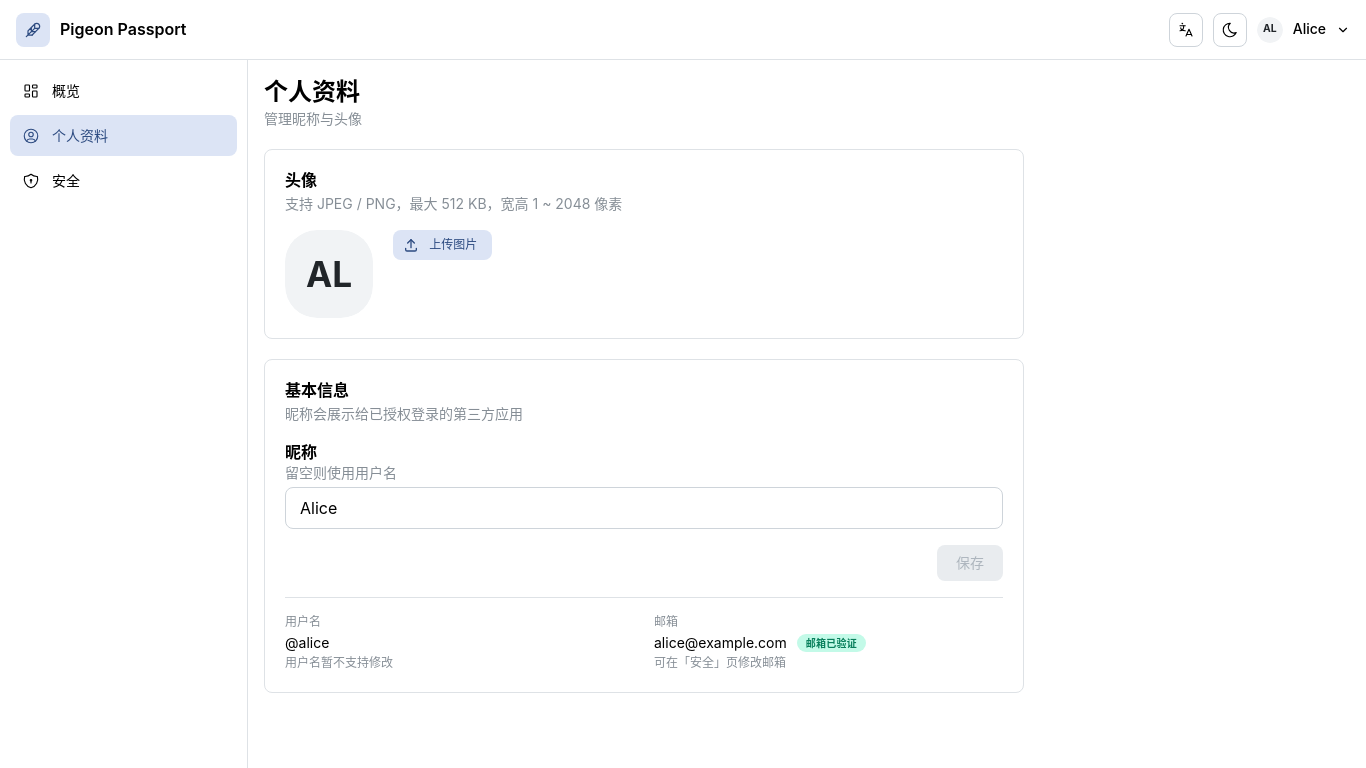
ProfilePage display name › backfills a 422 field error from the server
Type "Bob" into the field labelled "昵称".
click(644, 508); type("Bob")  # box [285,487,1003,529]
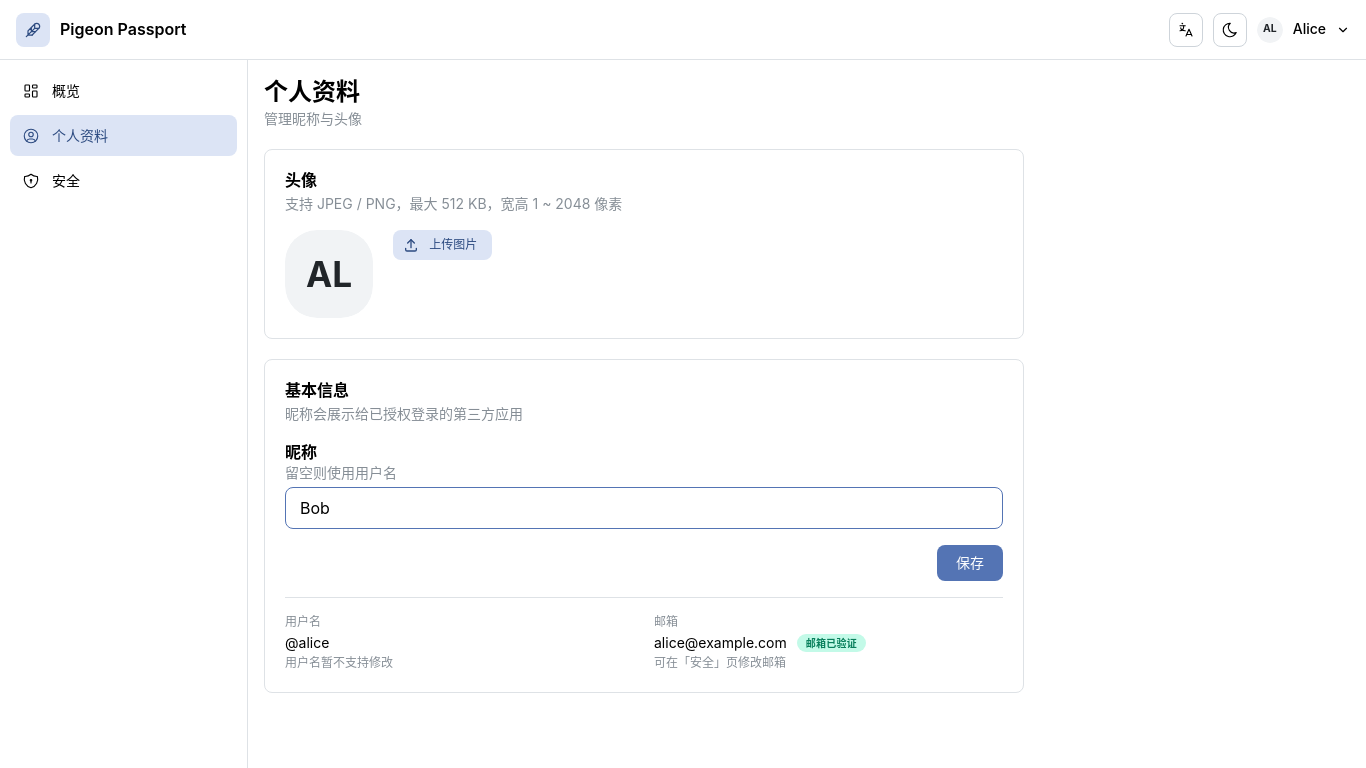
Click the button "保存".
click(970, 563)  # box [937,545,1003,581]
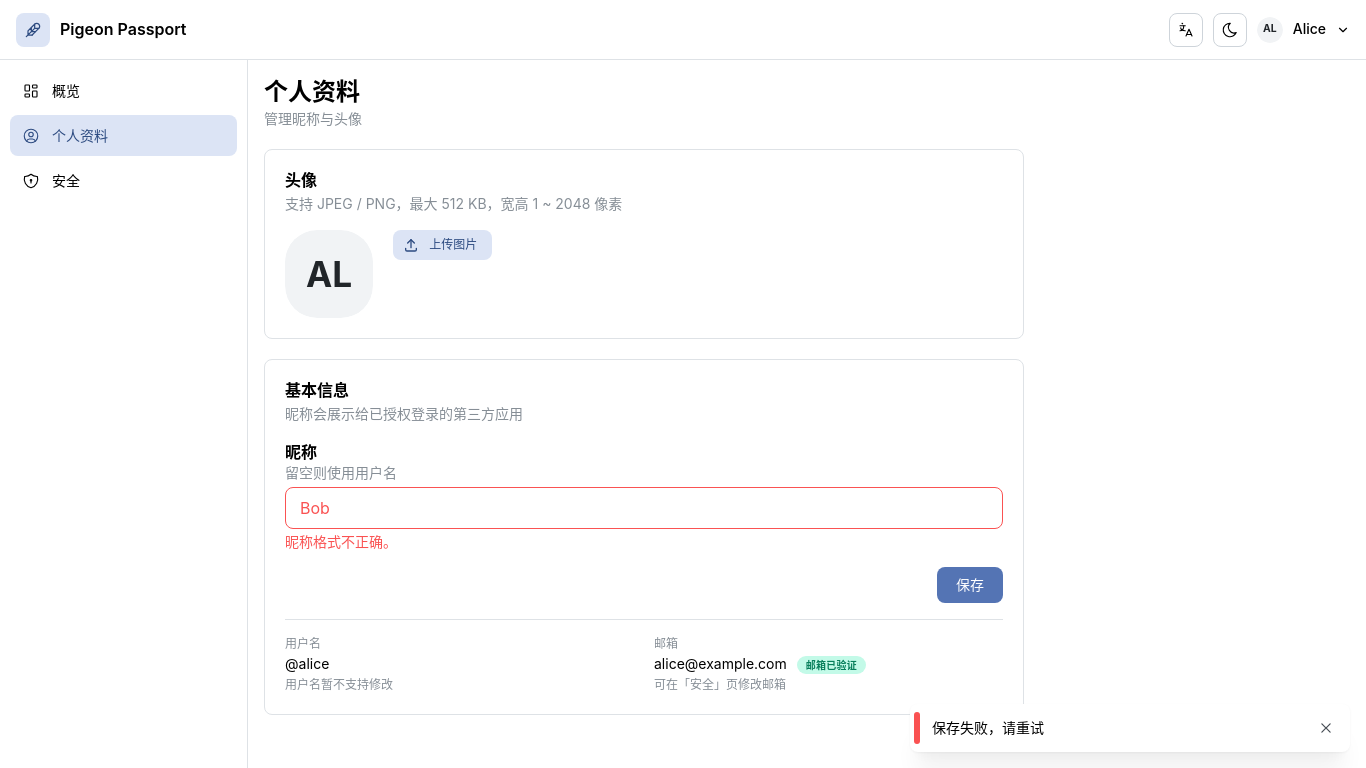
Expected: the text "Alice" is shown, [1293,19,1326,40]
Expected: the text "昵称格式不正确。" is shown, [285,533,397,550]
